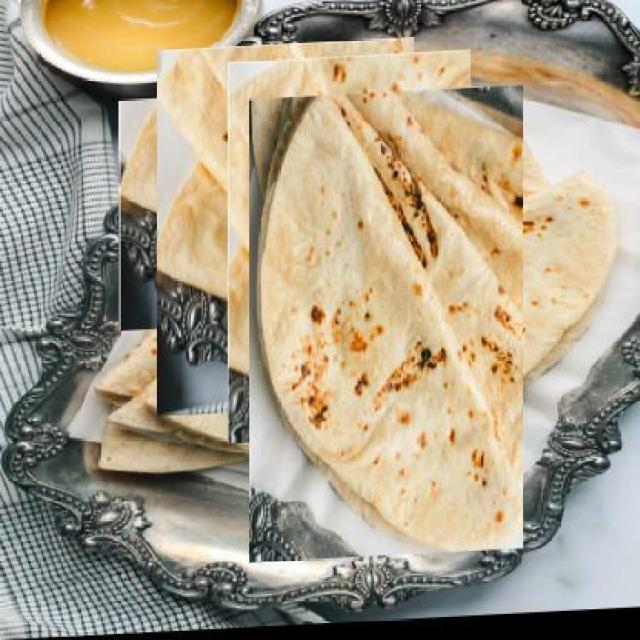chapati: (200, 137, 572, 523), (193, 88, 507, 414), (131, 68, 443, 394), (117, 93, 349, 333)
